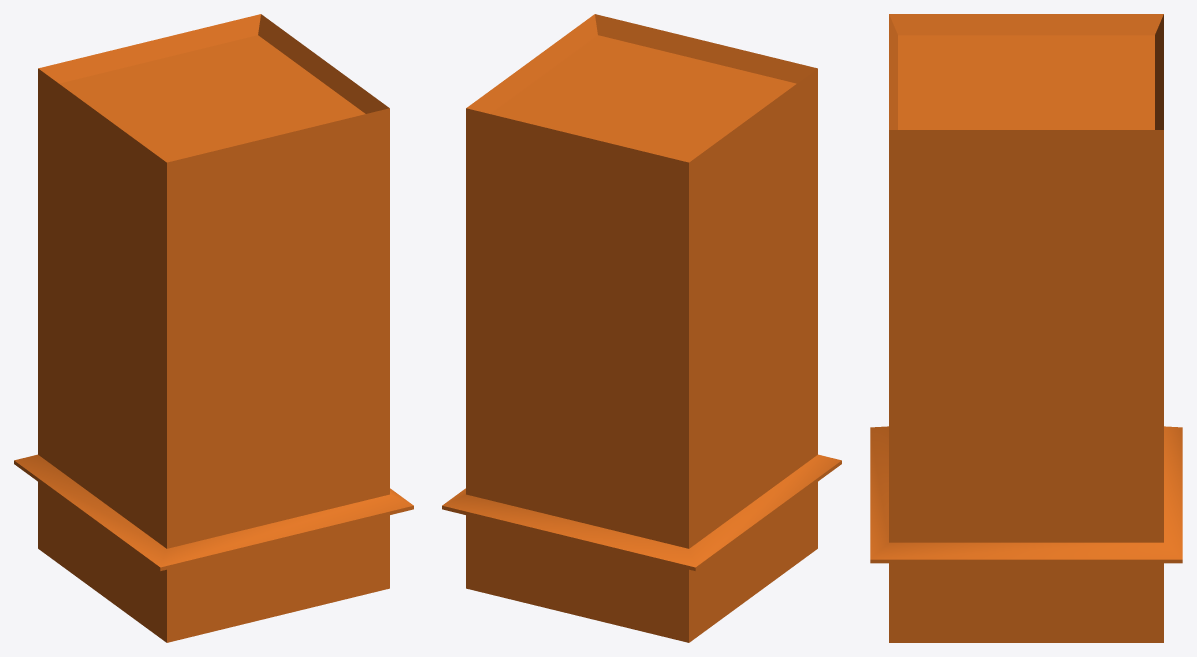
The model's file is cube.014_lev1_lev3.glb.
3 renders of one model, left to right at view 1: azimuth 30°, elevation 25°; view 2: azimuth 150°, elevation 25°; view 3: azimuth 270°, elevation 25°, orthographic. The views are drawn at different scales.
Parts seen in each view (by area): view 1: cube.014_lev1_lev3; view 2: cube.014_lev1_lev3; view 3: cube.014_lev1_lev3.
Part boxes in pixels (bbox=[...]): cube.014_lev1_lev3: bbox=[14, 14, 413, 642]; cube.014_lev1_lev3: bbox=[442, 14, 841, 642]; cube.014_lev1_lev3: bbox=[870, 14, 1182, 642].
Bounding box in the file's own units: 4.07 × 7.36 × 4.07.
